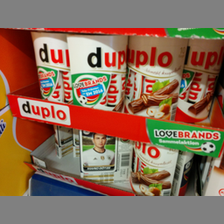chocolate: (69, 34, 128, 112), (127, 36, 178, 119), (30, 31, 72, 101), (129, 143, 174, 196)
